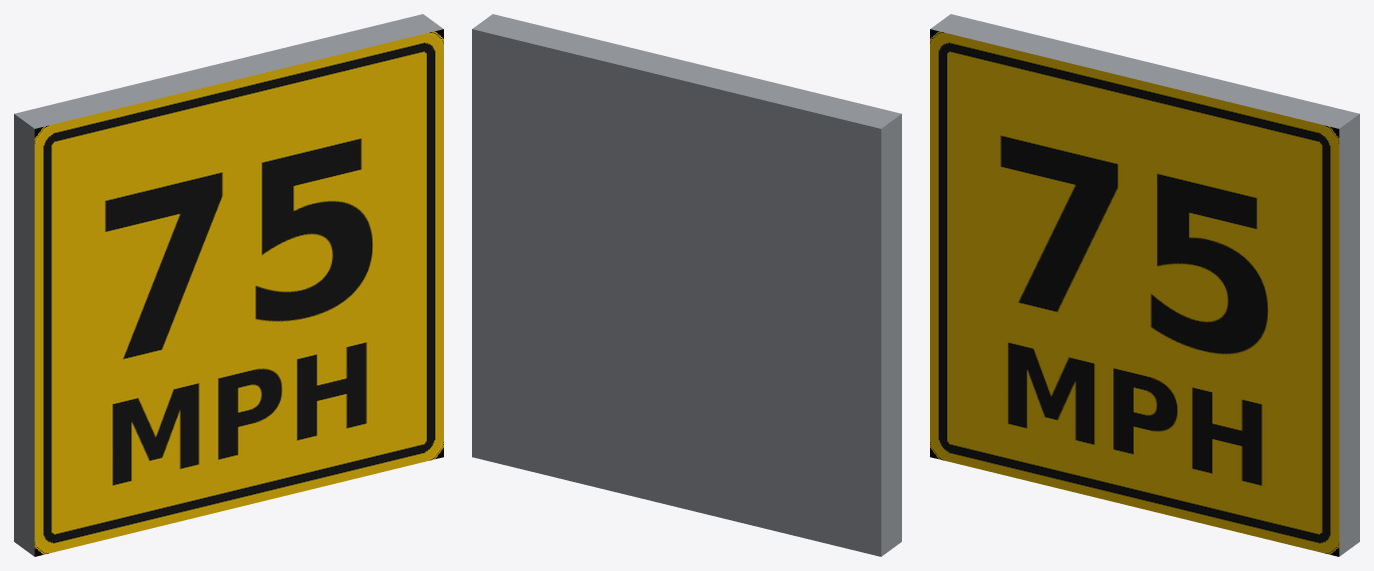
The model's file is us_advisory75.dae.
3 views of the same model, side by side, from view 1: azimuth 30°, elevation 25°; view 2: azimuth 150°, elevation 25°; view 3: azimuth 330°, elevation 25° (orthographic).
Visible parts, largest first — view 1: sign4, Colmesh-1; view 2: Colmesh-1; view 3: sign4, Colmesh-1.
Part boxes in pixels (x1,y1,x2,y2): sign4: (34,29,443,556); Colmesh-1: (14,14,443,556); Colmesh-1: (472,14,901,556); sign4: (930,29,1339,556); Colmesh-1: (930,14,1359,556).
Size of the model in its own units: 0.4572 by 0.04 by 0.4572.
Materials: 2 (1 with a texture image).
